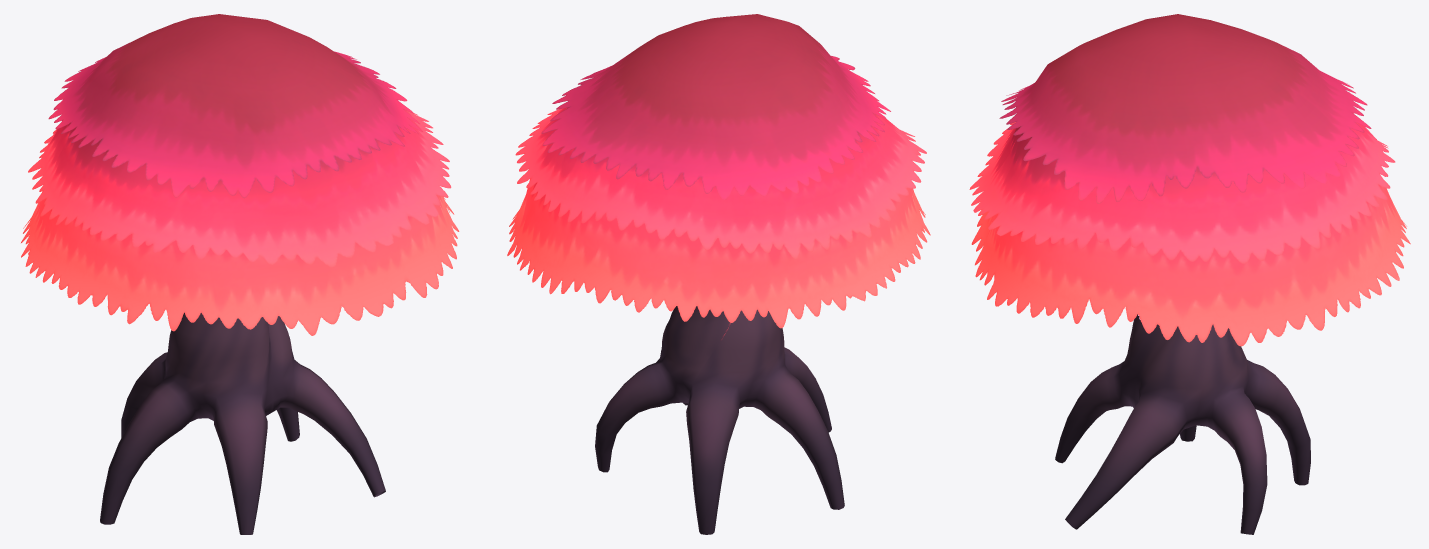
The model's file is EXP_Tree_Default_02.fbx.
The picture shows the model from 3 angles, left to right: view 1: azimuth 30°, elevation 25°; view 2: azimuth 150°, elevation 25°; view 3: azimuth 270°, elevation 25°; orthographic projection. The views are drawn at different scales.
Visible parts, largest first — view 1: OBJ_Tree_Default_02_lod0; view 2: OBJ_Tree_Default_02_lod0; view 3: OBJ_Tree_Default_02_lod0.
Boxes of the visible parts, box(x1,y1,x2,y2) form: OBJ_Tree_Default_02_lod0: box(21, 14, 459, 534); OBJ_Tree_Default_02_lod0: box(507, 14, 930, 534); OBJ_Tree_Default_02_lod0: box(969, 14, 1410, 534).
Size of what is drawn, in the model's own units: 3.8 by 4.36 by 3.77.
2 materials, 2 textured.
